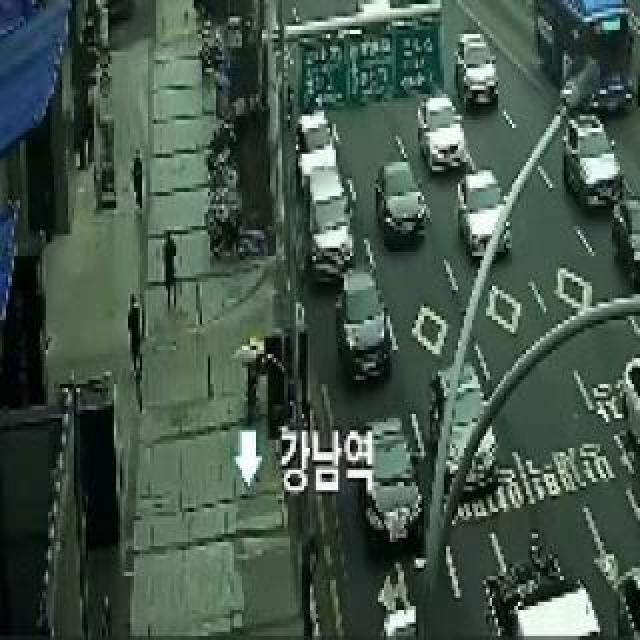car: (446, 168, 520, 264), (451, 26, 511, 106)
